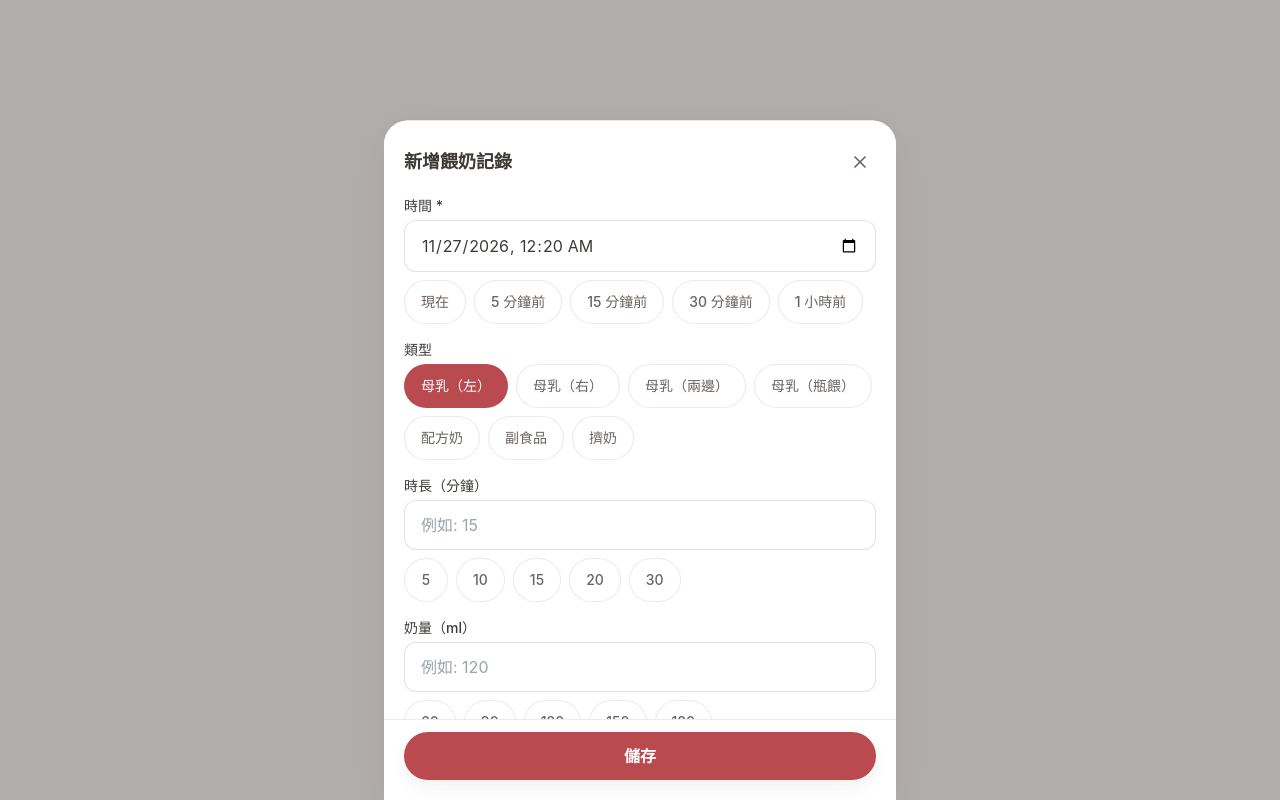
Test case: 寫入失敗時 › 表單留在原地，剛填的奶量還在，錯誤就顯示在表單裡
Type "120" into the number field labelled "奶量（ml）".
click(640, 667); type("120")  # box [404, 642, 876, 692]
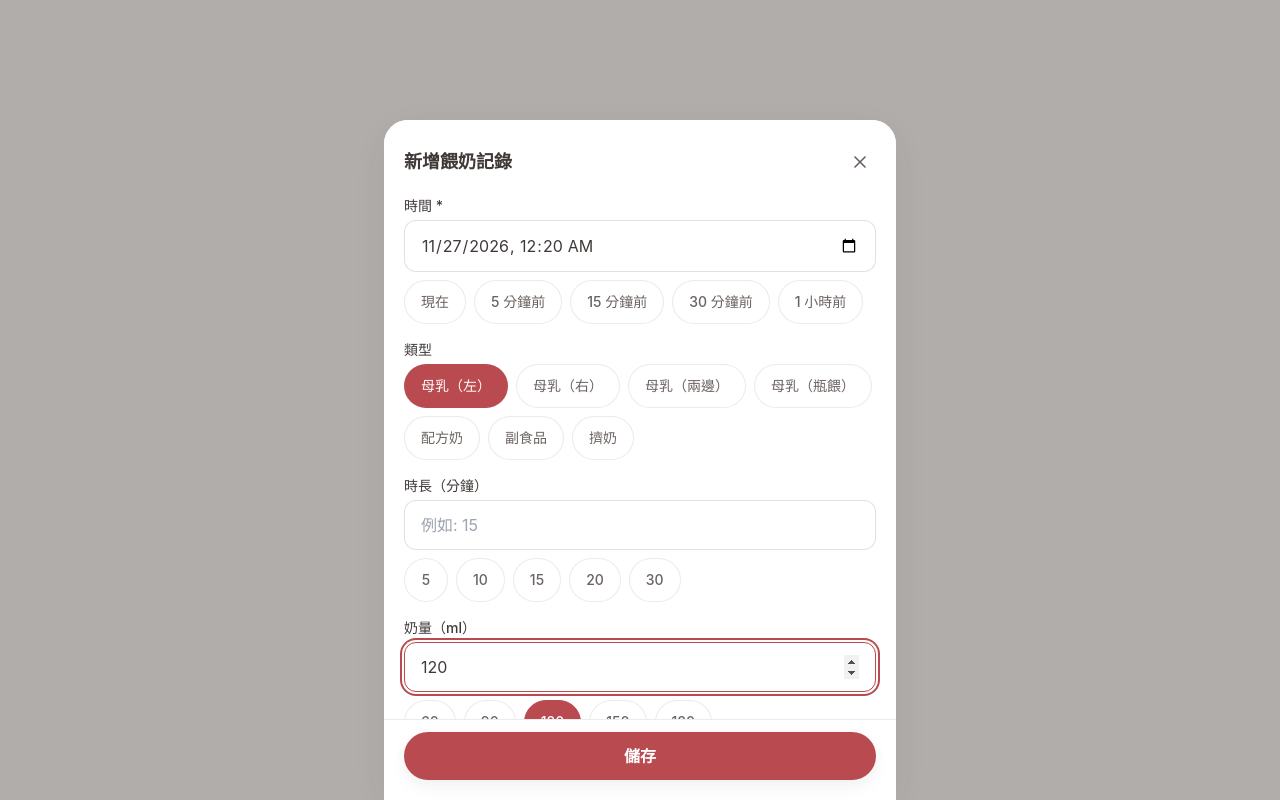
Click the button "儲存".
click(640, 756)  # box [404, 732, 876, 780]
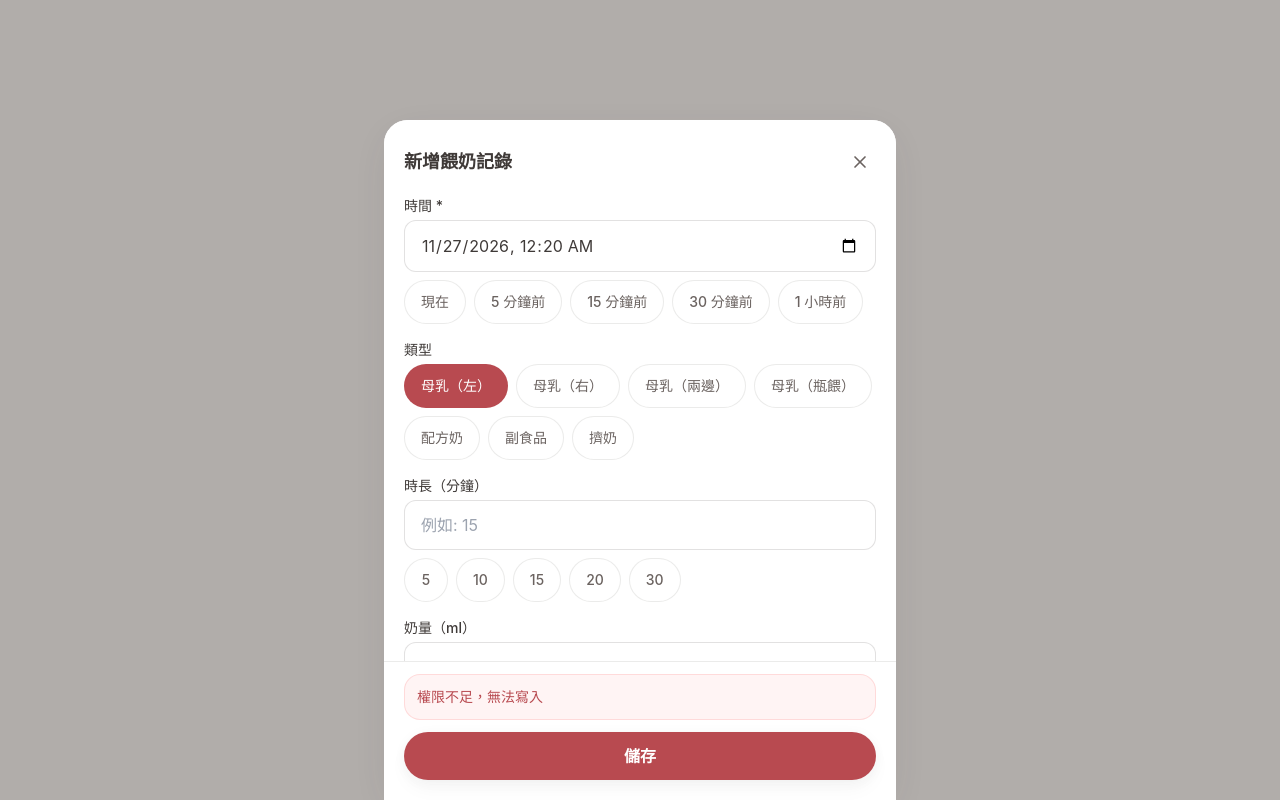
Result: the message reads "權限不足，無法寫入" at [417, 688, 543, 705]
